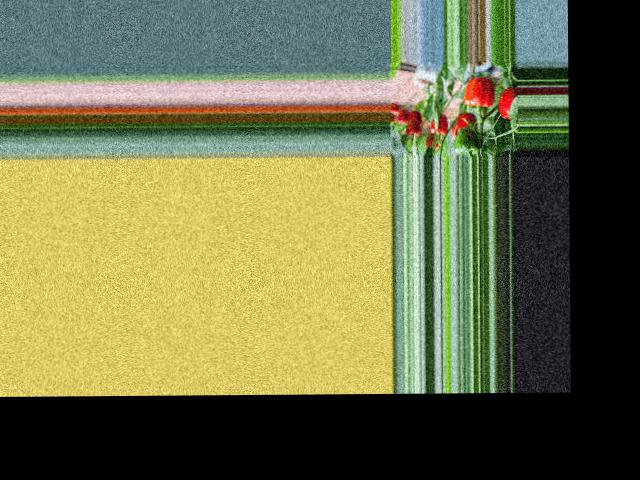bell_pepper: (427, 108, 447, 140)
